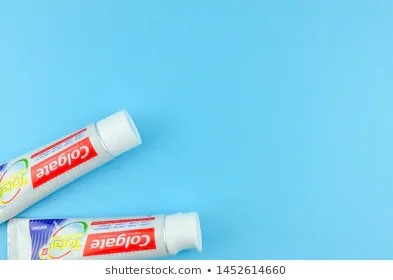colgate-total-150gm: (1, 100, 147, 213), (5, 210, 214, 264)
